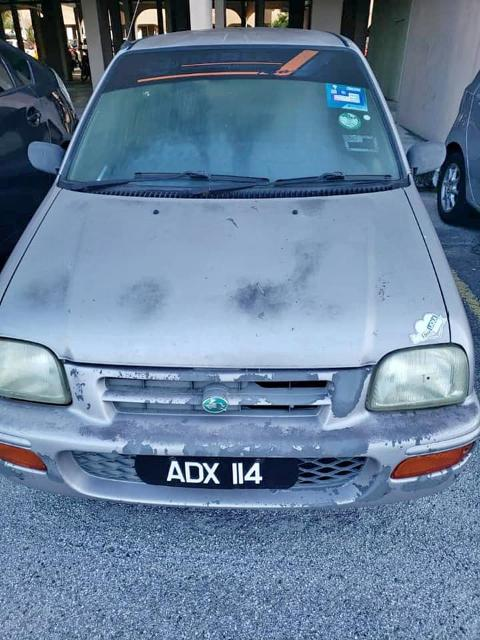License_Plate: (148, 458, 282, 495)
car: (10, 25, 480, 520)
